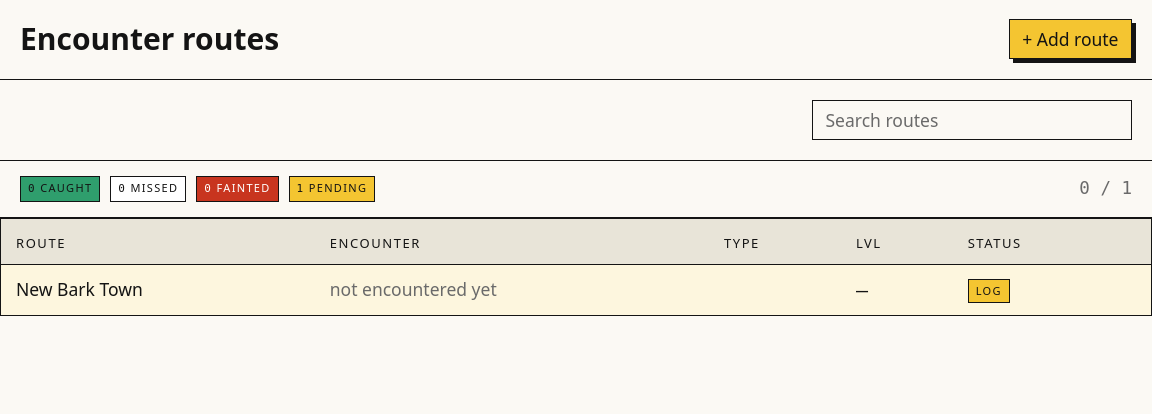
Scenario: RoutesScreen › keeps the add-route field hidden until the control asks for it
This screenshot has width=1152, height=414.
Expected: the field labelled "route name" is not shown
Click the button "+ Add route" at (1070, 39), box [1009, 19, 1132, 59]
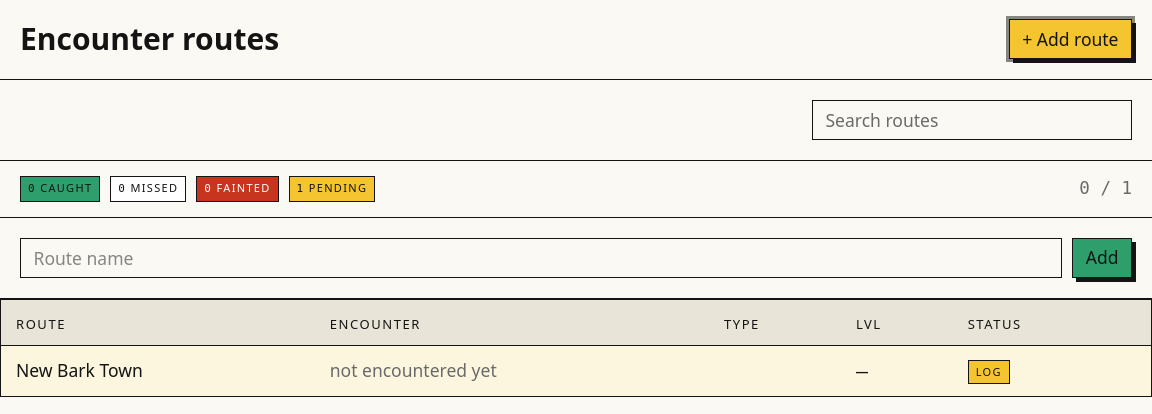
Expected: the field labelled "Route name" is shown, [20, 238, 1062, 278]
